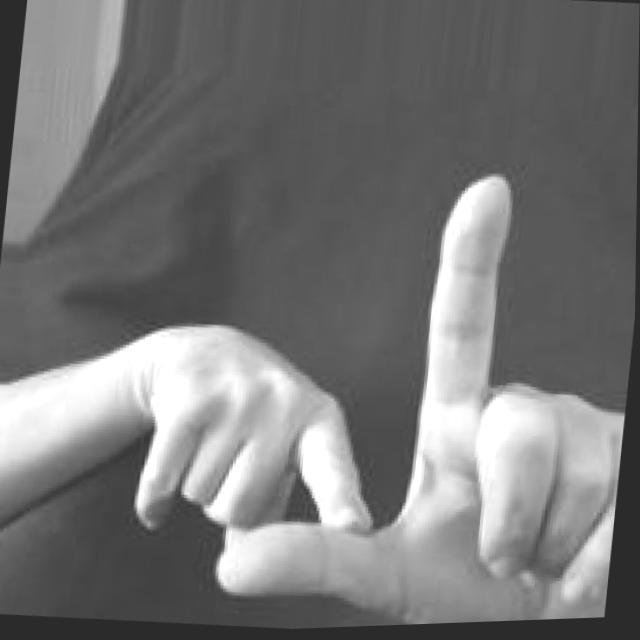J: (97, 121, 638, 636)
